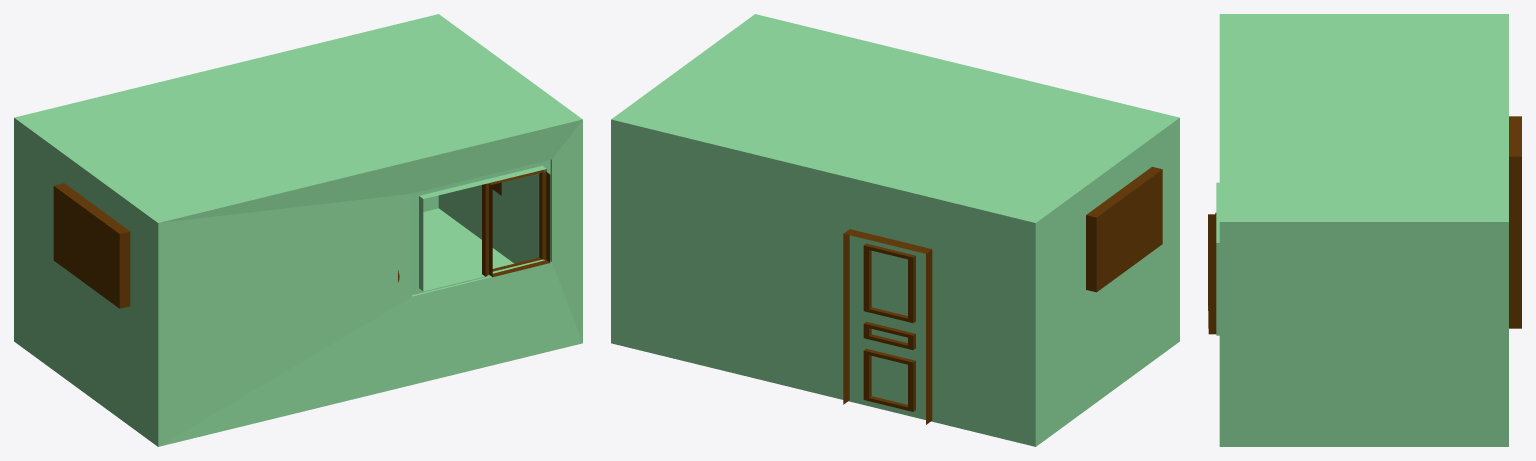
Rendered from room_colored_green.glb.
The picture shows the model from 3 angles, left to right: view 1: azimuth 30°, elevation 25°; view 2: azimuth 150°, elevation 25°; view 3: azimuth 270°, elevation 25°; orthographic projection.
Visible parts, largest first — view 1: Walls, Cube.002, Cube.003, Walls.001; view 2: Walls, Cube.002, Doors.001, Doors, Cube.003; view 3: Walls, Cube.003, Doors, Walls.001.
Part boxes in pixels (x1,y1,x2,y2): Walls: (14, 14, 582, 446); Cube.002: (53, 183, 130, 308); Cube.003: (423, 208, 513, 286); Walls.001: (482, 170, 550, 277); Walls: (611, 14, 1179, 446); Cube.002: (1086, 166, 1162, 292); Doors.001: (863, 243, 915, 411); Doors: (843, 229, 932, 424); Cube.003: (611, 314, 703, 352); Walls: (1216, 14, 1508, 446); Cube.003: (1291, 417, 1508, 433); Doors: (1509, 116, 1521, 328); Walls.001: (1208, 212, 1216, 334).
Bounding box in the file's own units: 6.11 × 3 × 3.8.
